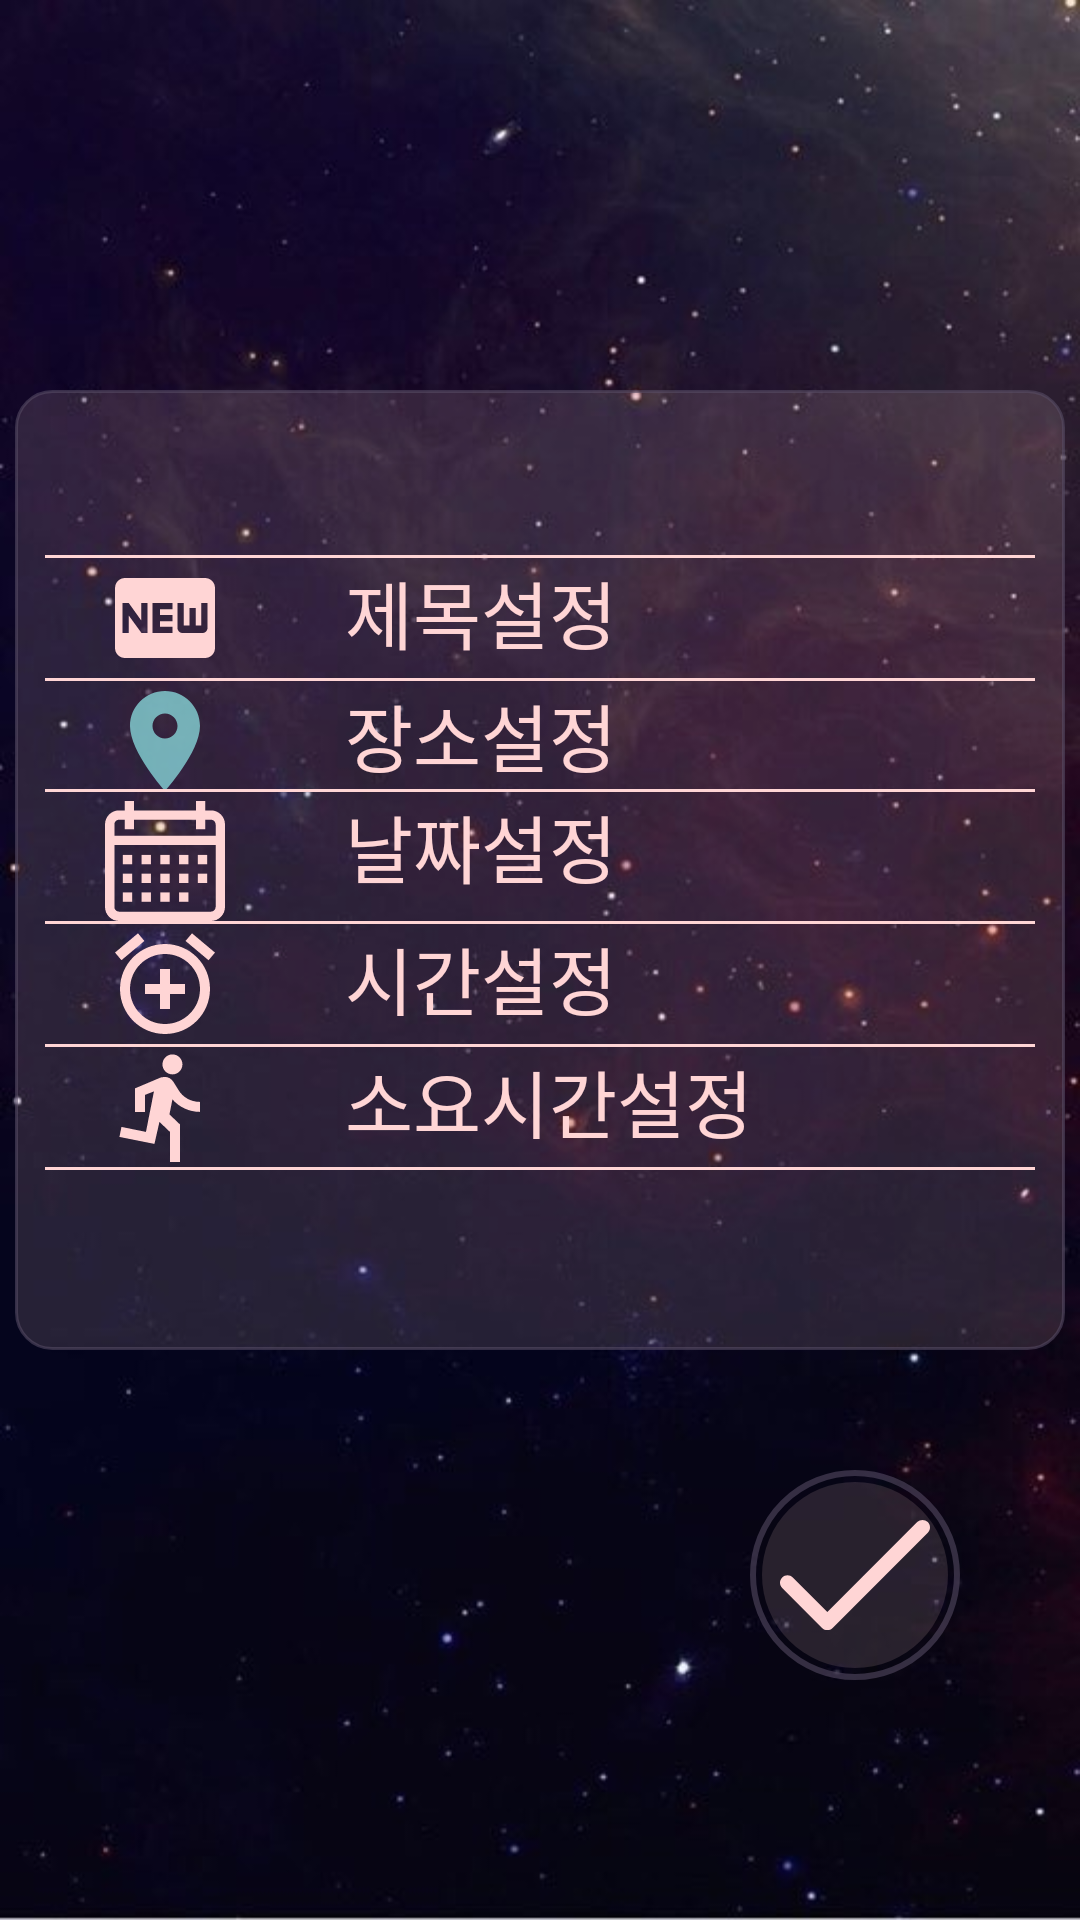

Screen size 1080*1920. Icon name, then its center in pixels as (x,y):
calendar: (165,861)
clock: (165,982)
location: (165,744)
run: (159,1108)
